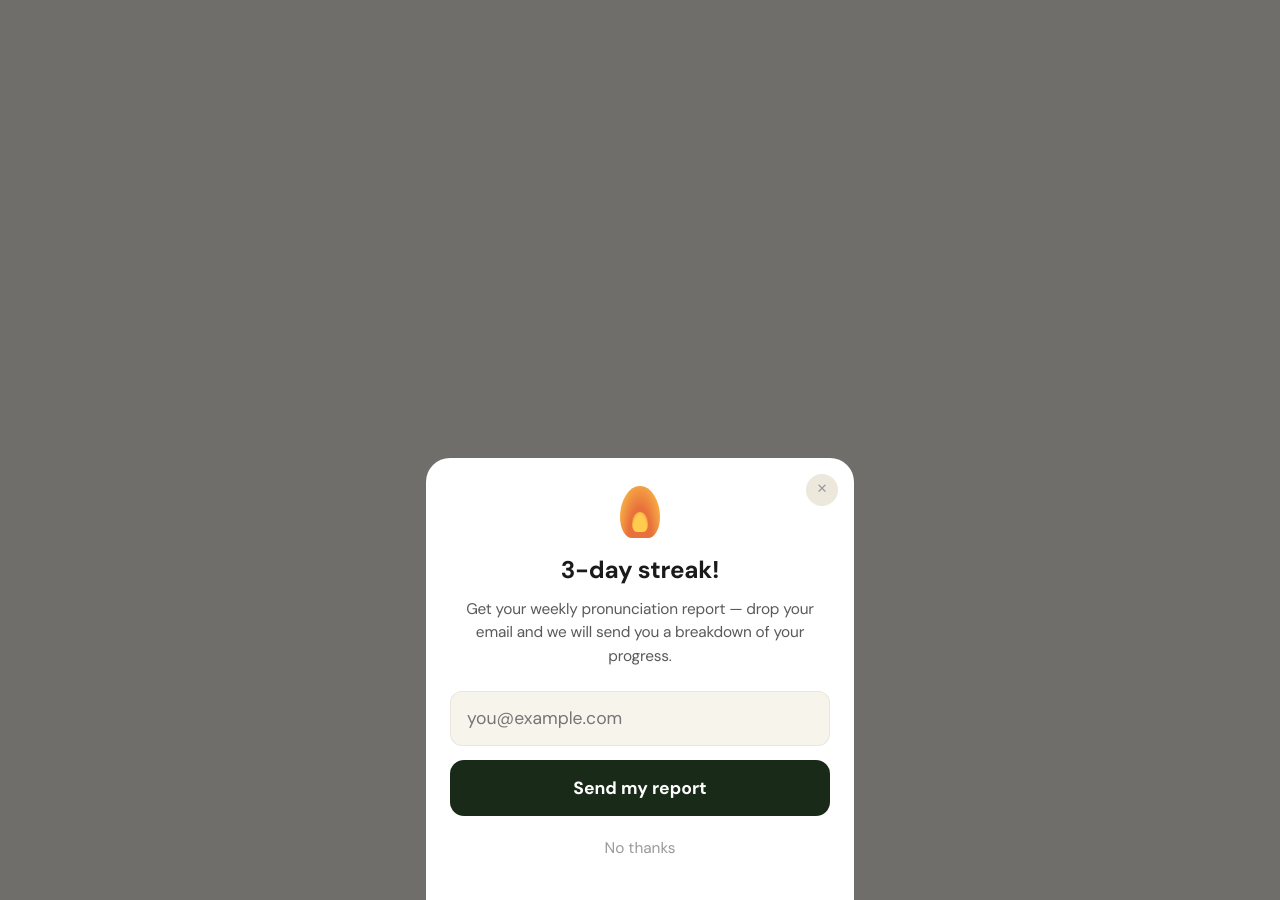
Test: EmailCaptureModal › shows validation error for empty submit
Click the button "Send my report" at (640, 788), box [450,760,830,816]
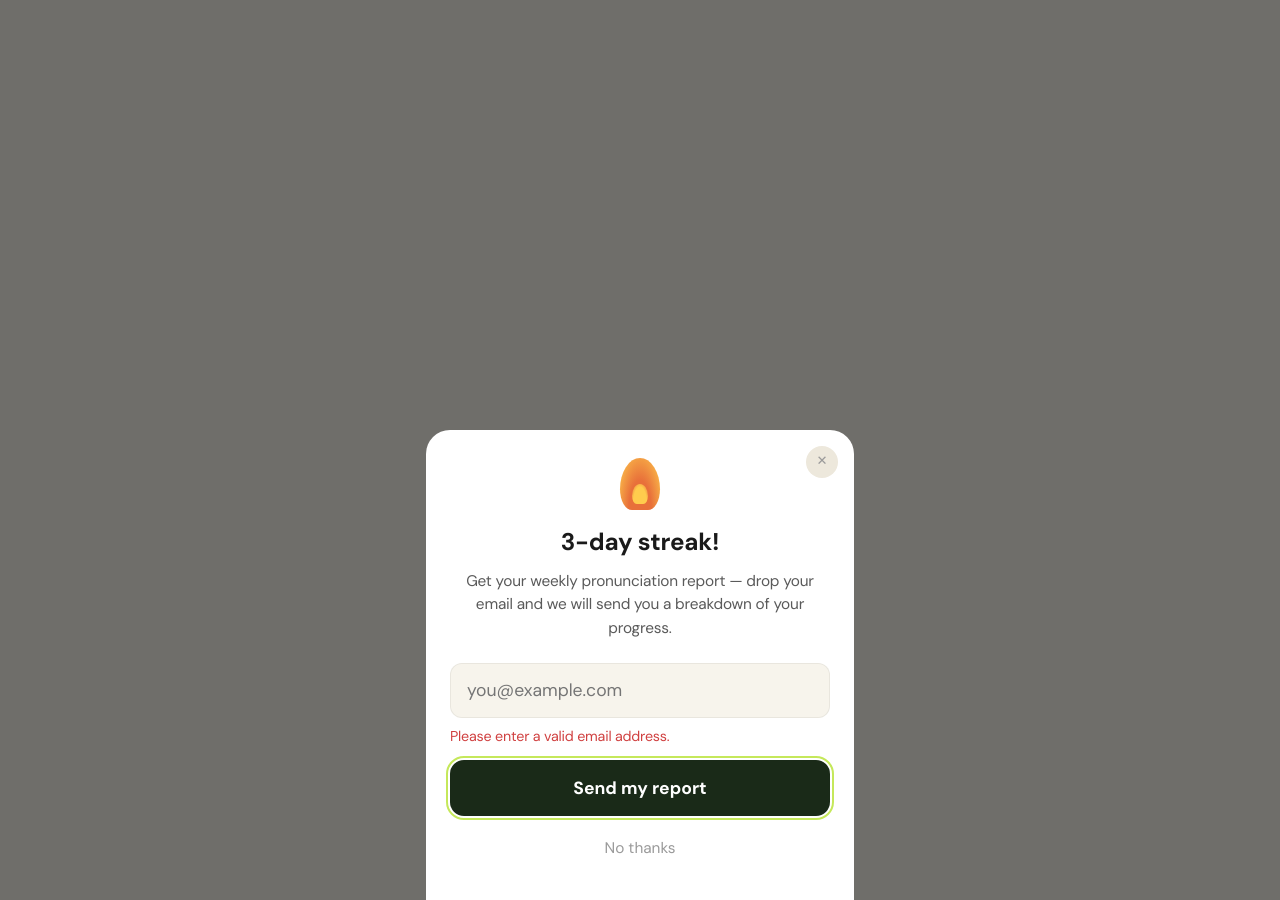
expect the message shows "valid email": met, box [450,727,669,745]
